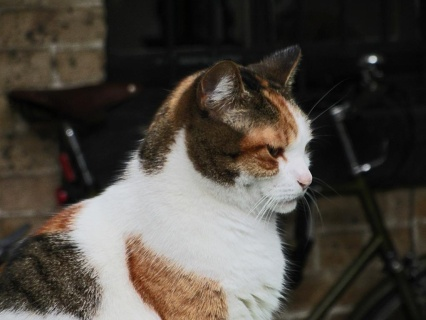Cat: (2, 45, 344, 319)
